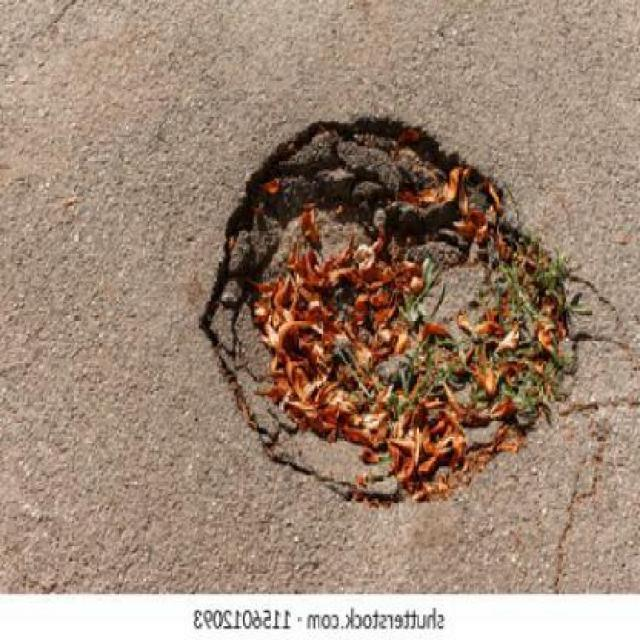pothole: (197, 107, 586, 515)
